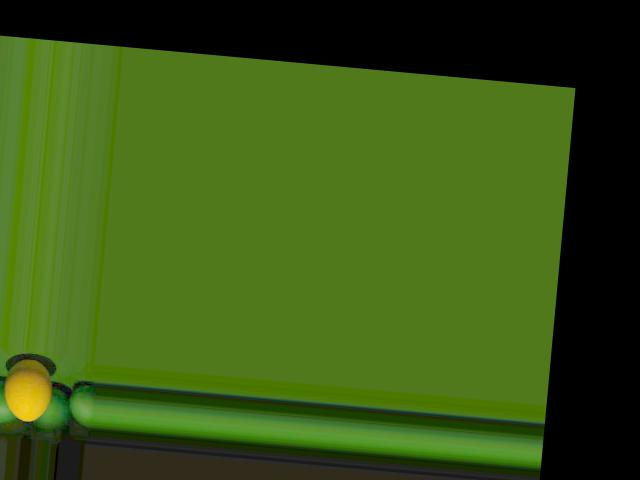egg: (1, 356, 54, 422)
